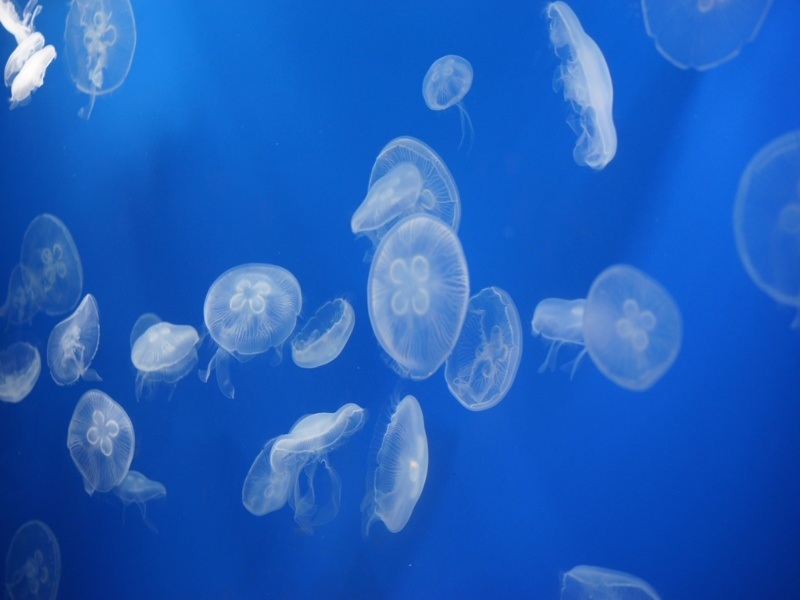Jellyfish: (360, 213, 471, 379), (241, 398, 372, 534), (577, 260, 682, 391), (729, 128, 799, 306), (545, 0, 619, 165), (196, 264, 304, 377), (440, 286, 523, 413), (366, 133, 459, 242), (356, 393, 425, 539), (641, 0, 771, 73), (61, 0, 136, 115), (61, 388, 138, 498), (20, 211, 84, 319), (350, 161, 423, 238), (47, 291, 102, 391), (422, 54, 478, 151), (4, 517, 66, 599), (1, 0, 50, 90), (534, 298, 588, 378), (298, 297, 356, 367), (127, 321, 199, 374), (111, 470, 165, 539), (558, 563, 658, 599), (8, 45, 60, 105), (0, 342, 45, 403)
